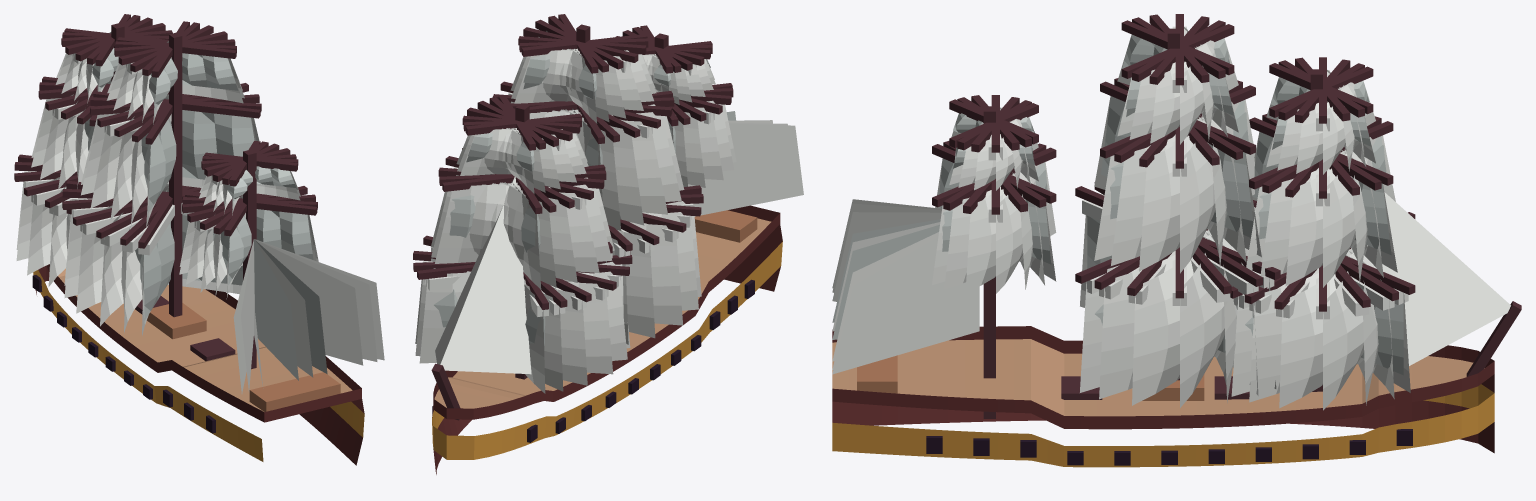
The model's file is ship.frigate.glb.
3 views of the same model, side by side, from view 1: azimuth 30°, elevation 25°; view 2: azimuth 150°, elevation 25°; view 3: azimuth 270°, elevation 25° (orthographic). The views are drawn at different scales.
Visible parts, largest first — view 1: hull, full_broad_p_spanker, bulwark, full_irons_s0_spanker, main, cabin, full_irons_p1_main_top, full_run_main_course, full_beam_p_spanker, full_irons_p0_main_top, full_irons_p0_spanker, full_run_spanker (+70 smaller); view 2: hull, full_close_s_jib, full_close_s_spanker, bulwark, full_run_main_course, full_broad_p_main_course, full_run_fore_course, full_beam_s_fore_top, full_beam_p_fore_top, full_run_main_top, full_broad_p_fore_course, full_broad_p_main_top (+66 smaller); view 3: hull, full_close_p_spanker, bulwark, full_close_p_jib, full_broad_p_main_course, full_broad_p_fore_course, full_run_main_course, full_broad_p_main_top, full_beam_p_main_course, full_run_fore_course, full_run_main_top, full_broad_p_fore_top (+49 smaller).
Part boxes in pixels (left/top/right/bottom): hull: left=33, top=266, right=364, bottom=465; full_broad_p_spanker: left=254, top=239, right=363, bottom=365; bulwark: left=46, top=264, right=361, bottom=422; full_irons_s0_spanker: left=254, top=239, right=298, bottom=380; main: left=169, top=32, right=182, bottom=317; cabin: left=249, top=372, right=340, bottom=411; full_irons_p1_main_top: left=182, top=110, right=217, bottom=179; full_run_main_course: left=76, top=187, right=168, bottom=313; full_beam_p_spanker: left=257, top=240, right=377, bottom=361; full_irons_p0_main_top: left=141, top=112, right=254, bottom=178; full_irons_p0_spanker: left=255, top=240, right=327, bottom=374; full_run_spanker: left=254, top=239, right=313, bottom=377; hull: left=432, top=218, right=782, bottom=474; full_close_s_jib: left=440, top=177, right=531, bottom=374; full_close_s_spanker: left=688, top=123, right=803, bottom=216; bulwark: left=433, top=205, right=780, bottom=419; full_run_main_course: left=630, top=222, right=683, bottom=325; full_broad_p_main_course: left=617, top=230, right=655, bottom=338; full_run_fore_course: left=567, top=281, right=613, bottom=374; full_beam_s_fore_top: left=431, top=177, right=614, bottom=257; full_beam_p_fore_top: left=504, top=182, right=556, bottom=287; full_run_main_top: left=560, top=109, right=667, bottom=214; full_broad_p_fore_course: left=524, top=279, right=587, bottom=385; full_broad_p_main_top: left=563, top=109, right=644, bottom=225; hull: left=832, top=339, right=1494, bottom=467; full_close_p_spanker: left=832, top=237, right=979, bottom=374; bulwark: left=832, top=326, right=1494, bottom=429; full_close_p_jib: left=1340, top=152, right=1510, bottom=365; full_broad_p_main_course: left=1132, top=234, right=1214, bottom=405; full_broad_p_fore_course: left=1279, top=253, right=1356, bottom=408; full_run_main_course: left=1180, top=229, right=1224, bottom=407; full_broad_p_main_top: left=1139, top=119, right=1206, bottom=271; full_beam_p_main_course: left=1099, top=234, right=1248, bottom=399; full_run_fore_course: left=1323, top=248, right=1364, bottom=410; full_run_main_top: left=1180, top=115, right=1215, bottom=273; full_broad_p_fore_top: left=1285, top=154, right=1347, bottom=285.
Bounding box in the file's own units: 1.38 × 2.28 × 3.37.
